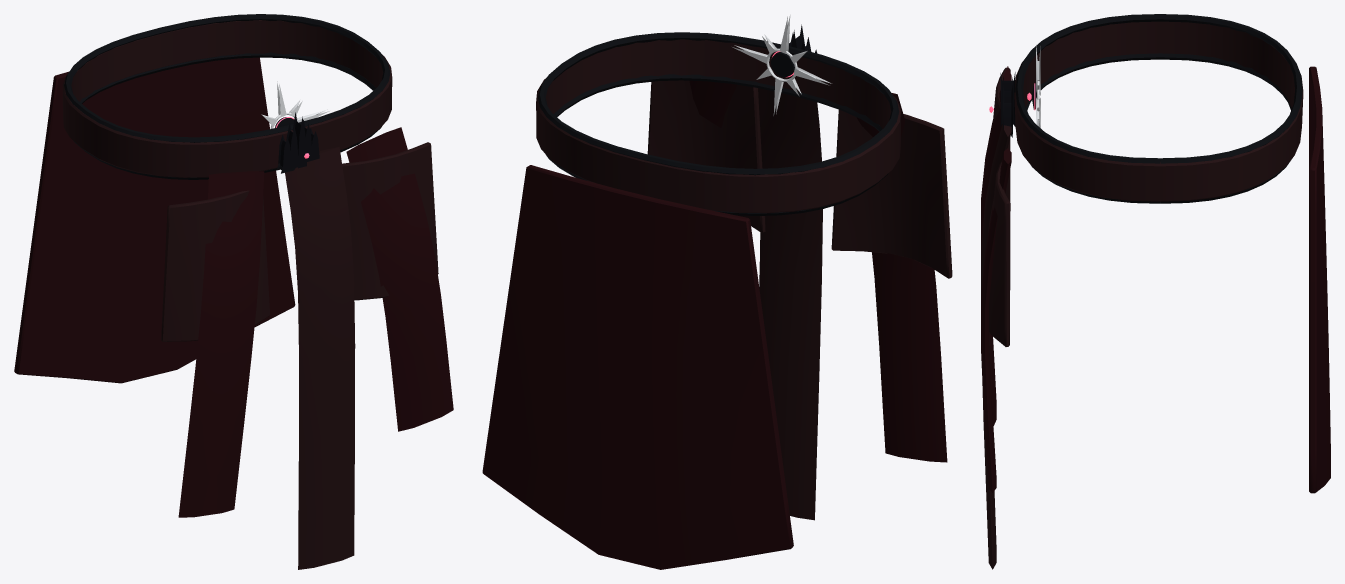
The model's file is esc_extinction_volley_inner.glb.
3 renders of one model, left to right at view 1: azimuth 30°, elevation 25°; view 2: azimuth 150°, elevation 25°; view 3: azimuth 270°, elevation 25°, orthographic. The views are drawn at different scales.
Visible parts, largest first — view 1: esc_extinction_volley_inner, AT_thigh_R, AT_thigh_L; view 2: esc_extinction_volley_inner, AT_thigh_R, AT_thigh_L; view 3: esc_extinction_volley_inner, AT_thigh_L.
Boxes of the visible parts, x1,y1,x2,y2 form: esc_extinction_volley_inner: (14, 14, 453, 569); AT_thigh_R: (161, 190, 269, 341); AT_thigh_L: (342, 142, 438, 300); esc_extinction_volley_inner: (482, 15, 947, 569); AT_thigh_R: (831, 110, 952, 278); AT_thigh_L: (647, 80, 765, 233); esc_extinction_volley_inner: (981, 14, 1330, 569); AT_thigh_L: (989, 160, 1010, 346).
Size of the model in its own units: 0.4686 by 0.7229 by 0.4593.
